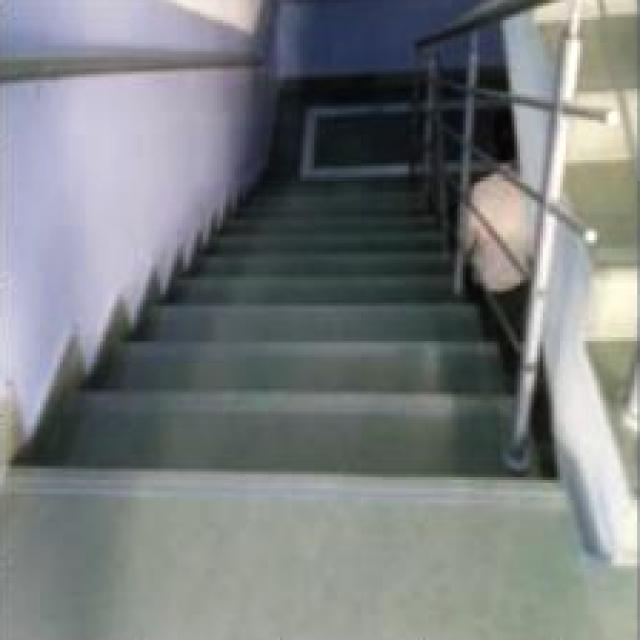downstair: (33, 290, 510, 521)
